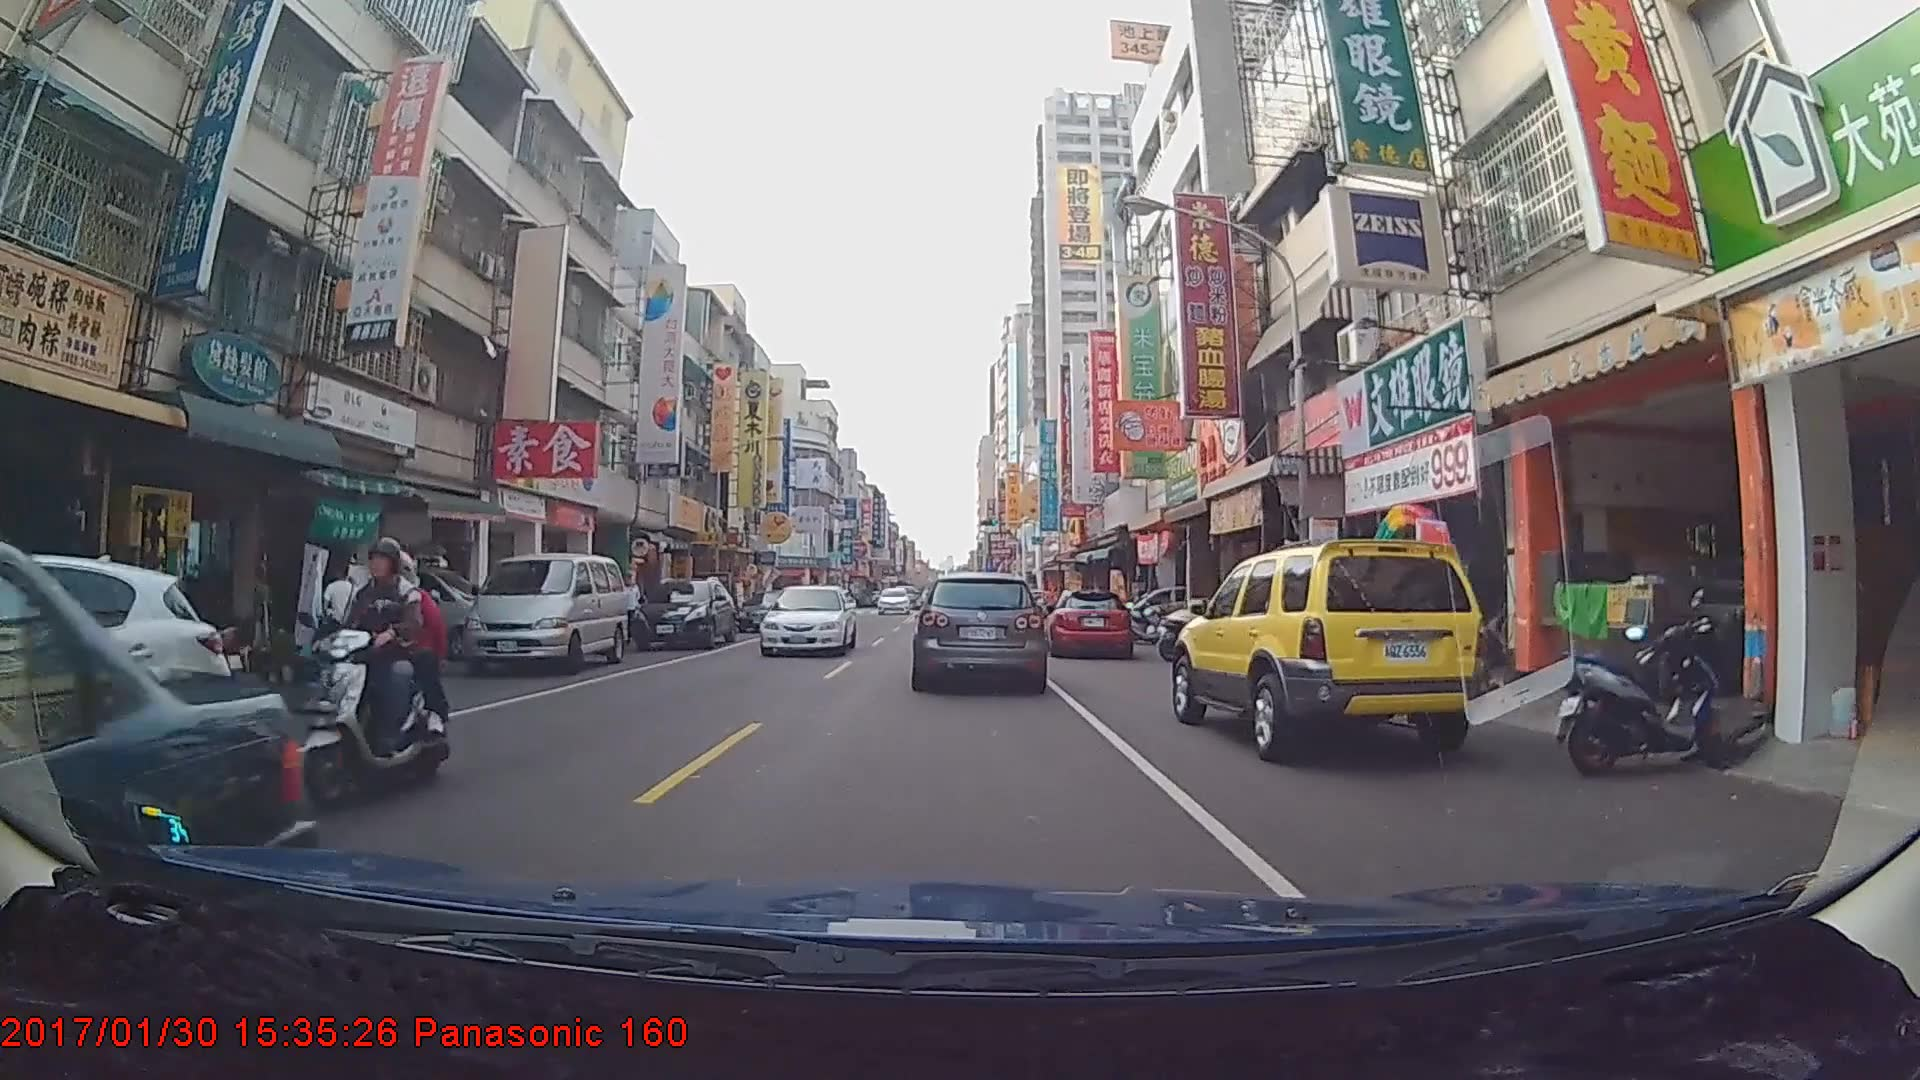rider: (283, 528, 461, 815)
vehicle: (0, 532, 296, 1008), (1170, 538, 1485, 764), (0, 550, 234, 825), (462, 552, 625, 675), (914, 572, 1044, 690), (629, 577, 736, 650), (760, 585, 856, 658), (1043, 589, 1134, 660), (738, 589, 802, 633), (877, 587, 911, 616)
